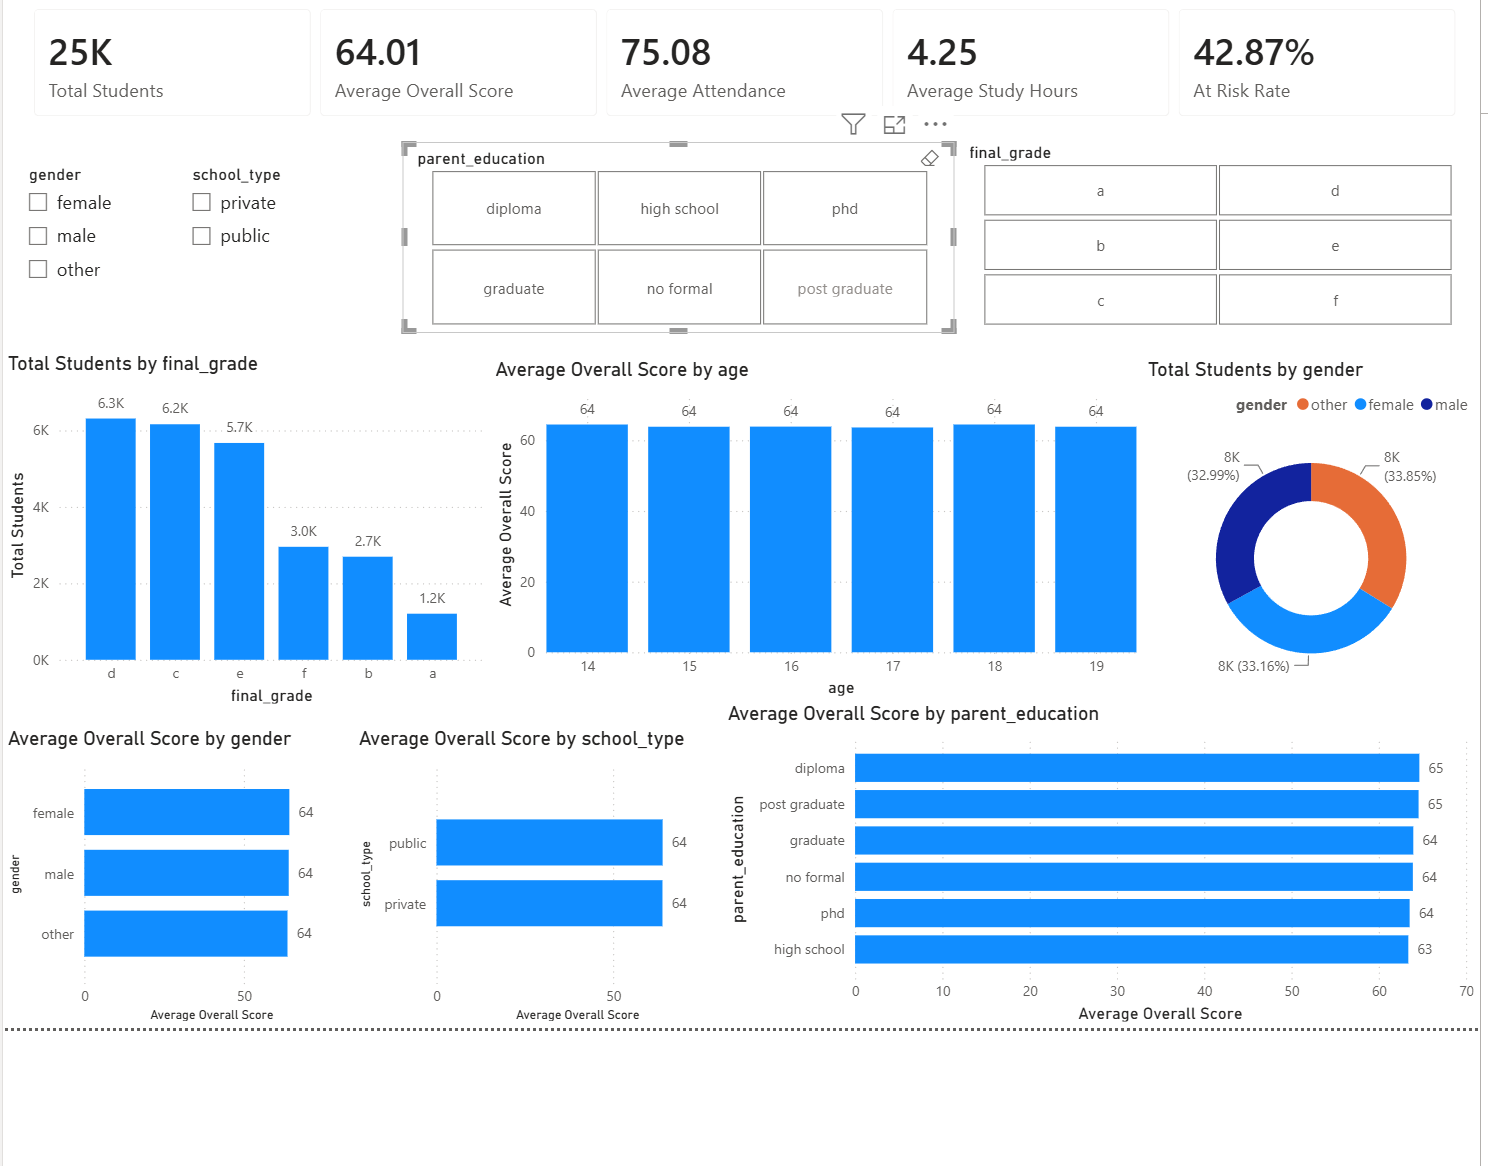

This screenshot's page, from the dashboard's own definition file:
{"tool":"powerbi","page":{"name":"Academic Performance Overview","canvas":[1280,900],"ordinal":0},"visuals":[{"type":"cardVisual","fields":{"Data":["Student_Performance.Total Students","Student_Performance.Average Overall Score","Student_Performance.Average Attendance","Student_Performance.Average Study Hours","Student_Performance.At Risk Rate"]},"box":[10.4,0,1270,127.4],"z":0},{"type":"clusteredColumnChart","fields":{"Category":["Student_Performance.final_grade"],"Y":["Student_Performance.Total Students"]},"box":[0,314.6,422.5,309.4],"z":1},{"type":"clusteredBarChart","fields":{"Y":["Student_Performance.Average Overall Score"],"Category":["Student_Performance.gender"]},"box":[0,640,304.2,260],"z":2},{"type":"clusteredBarChart","fields":{"Category":["Student_Performance.school_type"],"Y":["Student_Performance.Average Overall Score"]},"box":[304.2,639.6,328.9,260],"z":3},{"type":"clusteredBarChart","fields":{"Category":["Student_Performance.parent_education"],"Y":["Student_Performance.Average Overall Score"]},"box":[624,617.5,656.5,282.1],"z":4},{"type":"clusteredColumnChart","fields":{"Y":["Student_Performance.Average Overall Score"],"Category":["Student_Performance.age"]},"box":[422.5,320.2,565.5,297.7],"z":5},{"type":"donutChart","fields":{"Category":["Student_Performance.gender"],"Y":["Student_Performance.Total Students"]},"box":[988,320.2,292.5,297.7],"z":6},{"type":"slicer","fields":{"Values":["Student_Performance.gender"]},"box":[10.4,146.9,141.7,150.8],"z":7},{"type":"slicer","fields":{"Values":["Student_Performance.school_type"]},"box":[152.1,146.9,195,150.8],"z":8},{"type":"slicer","fields":{"Values":["Student_Performance.final_grade"]},"box":[825.5,127.4,455,170.3],"z":9},{"type":"slicer","fields":{"Values":["Student_Performance.parent_education"]},"box":[347.1,132.6,478.4,165.1],"z":10}]}

Visuals, with their boxes on the page's 1280x900 design canvas (x1, y1, x2, y2). These are canvas units, not pixel positions in the 1488x1166 screenshot, which may show the page scaled, cropped or inside an application window:
cardVisual - Student_Performance.Total Students x Student_Performance.Average Overall Score: box=[10, 0, 1280, 127]
clusteredColumnChart - Student_Performance.final_grade x Student_Performance.Total Students: box=[0, 315, 422, 624]
clusteredBarChart - Student_Performance.Average Overall Score x Student_Performance.gender: box=[0, 640, 304, 900]
clusteredBarChart - Student_Performance.school_type x Student_Performance.Average Overall Score: box=[304, 640, 633, 900]
clusteredBarChart - Student_Performance.parent_education x Student_Performance.Average Overall Score: box=[624, 618, 1280, 900]
clusteredColumnChart - Student_Performance.Average Overall Score x Student_Performance.age: box=[422, 320, 988, 618]
donutChart - Student_Performance.gender x Student_Performance.Total Students: box=[988, 320, 1280, 618]
slicer - Student_Performance.gender: box=[10, 147, 152, 298]
slicer - Student_Performance.school_type: box=[152, 147, 347, 298]
slicer - Student_Performance.final_grade: box=[826, 127, 1280, 298]
slicer - Student_Performance.parent_education: box=[347, 133, 826, 298]
